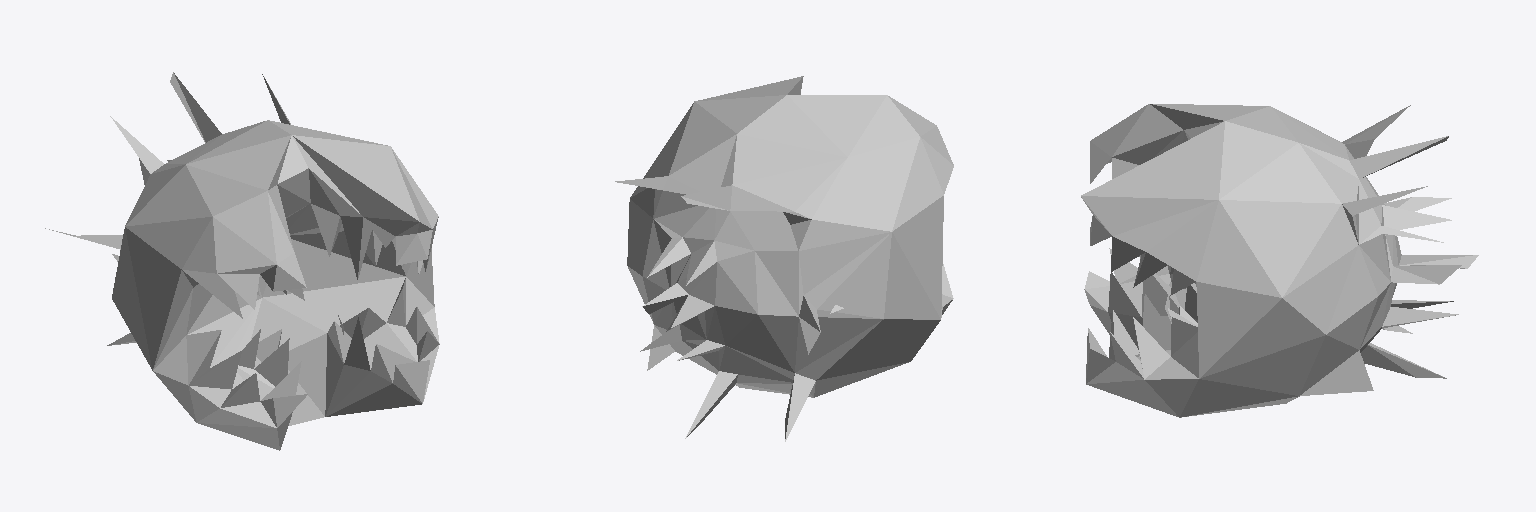
3 renders of one model, left to right at view 1: azimuth 30°, elevation 25°; view 2: azimuth 150°, elevation 25°; view 3: azimuth 270°, elevation 25°, orthographic.
Parts seen in each view (by area): view 1: ai_model; view 2: ai_model; view 3: ai_model.
Part boxes in pixels (x1,y1,x2,y2): ai_model: (45,72,439,450); ai_model: (615,76,953,441); ai_model: (1081,104,1478,417).
Bounding box in the file's own units: 0.6623 × 0.6361 × 0.8279.